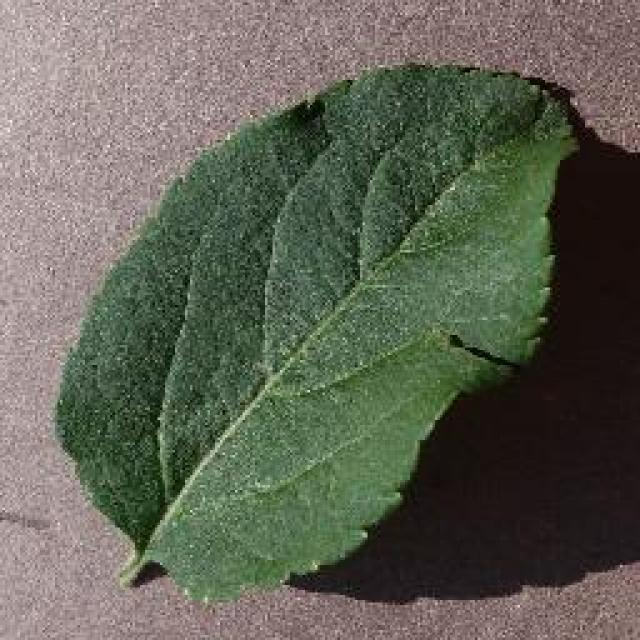apple healthy: (50, 58, 582, 602)
